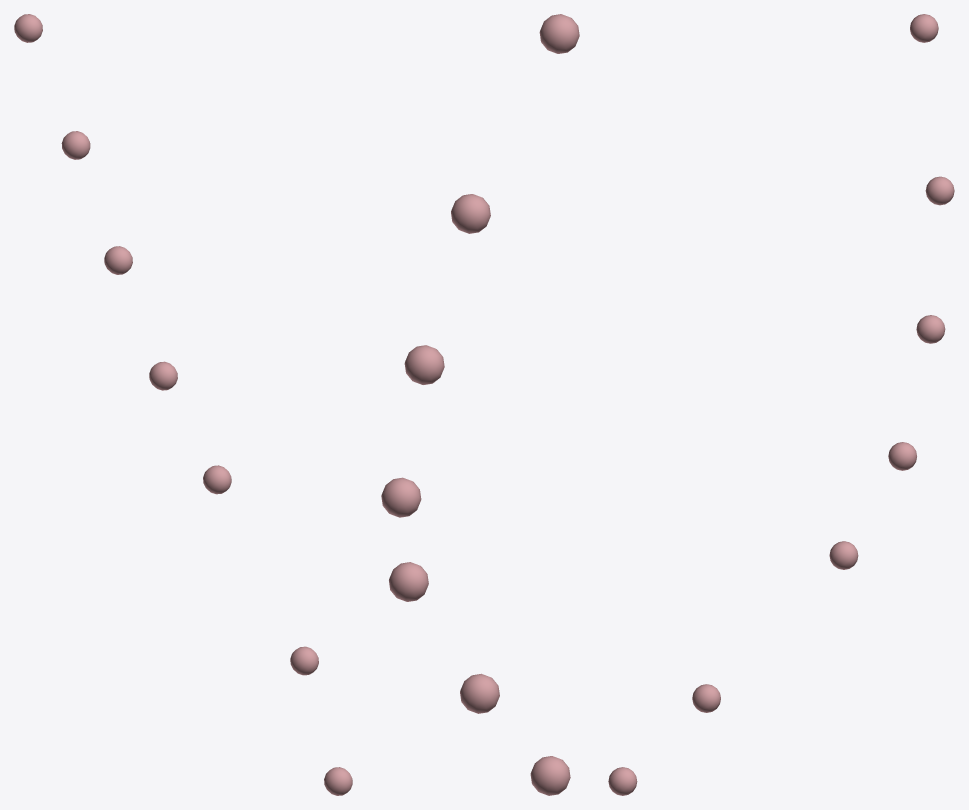
The picture shows the model from 3 angles, left to right: view 1: azimuth 30°, elevation 25°; view 2: azimuth 150°, elevation 25°; view 3: azimuth 270°, elevation 25°; orthographic projection. The views are drawn at different scales.
Visible parts, largest first — view 1: ZA_35f52b4fe2133890; view 2: ZA_35f52b4fe2133890; view 3: ZA_35f52b4fe2133890.
Boxes of the visible parts, x1,y1,x2,y2 form: ZA_35f52b4fe2133890: [14, 14, 352, 795]; ZA_35f52b4fe2133890: [381, 14, 579, 795]; ZA_35f52b4fe2133890: [608, 14, 954, 795].
Bounding box in the file's own units: 0.0197 × 0.0697 × 0.0311.
